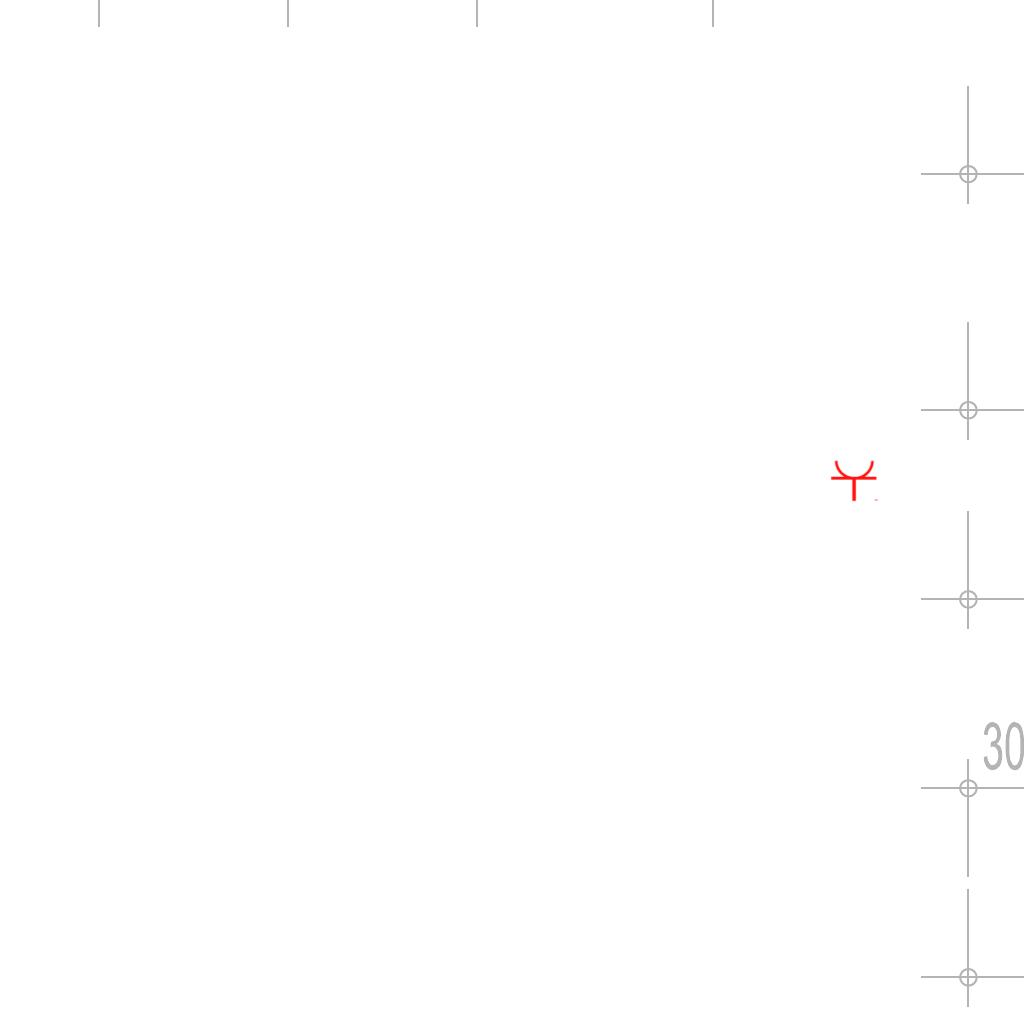Schukosteckdose_einfach: (830, 459, 880, 502)
